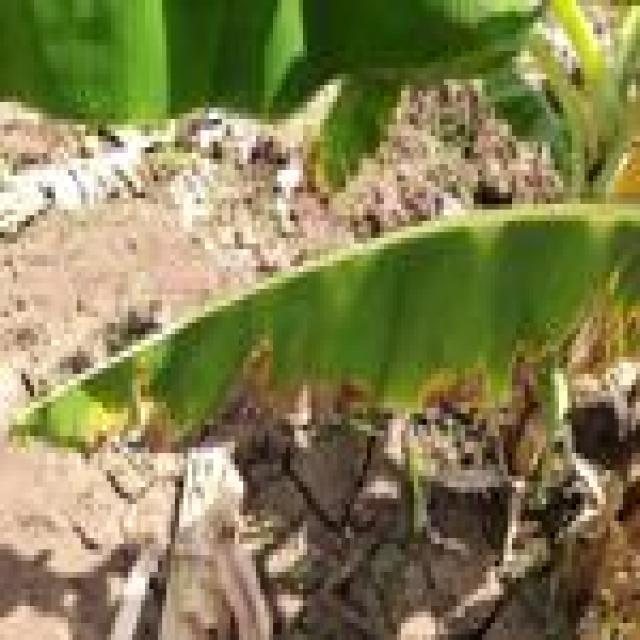Early_rust: (2, 221, 640, 490)
